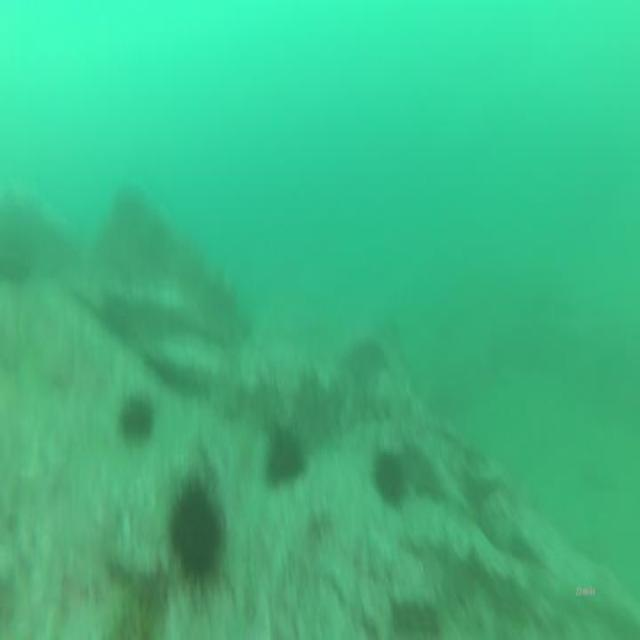echinus: (166, 474, 227, 613), (263, 419, 309, 490), (116, 390, 158, 449), (372, 447, 408, 512), (98, 296, 130, 344)
